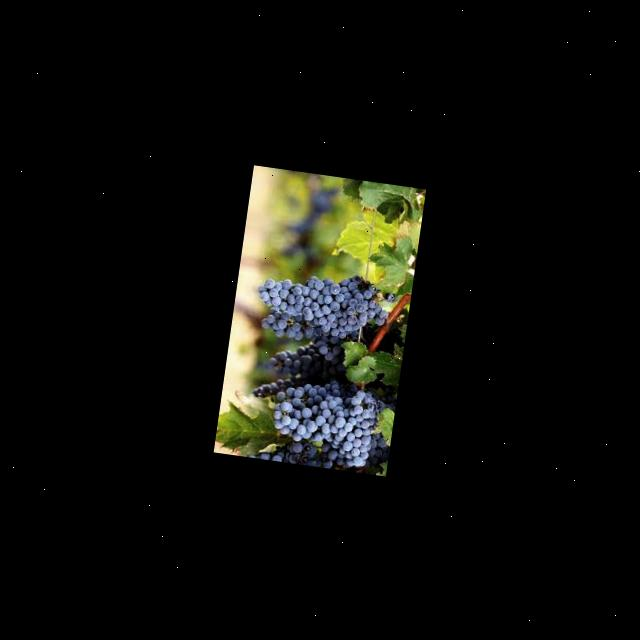grape: (236, 260, 414, 474)
